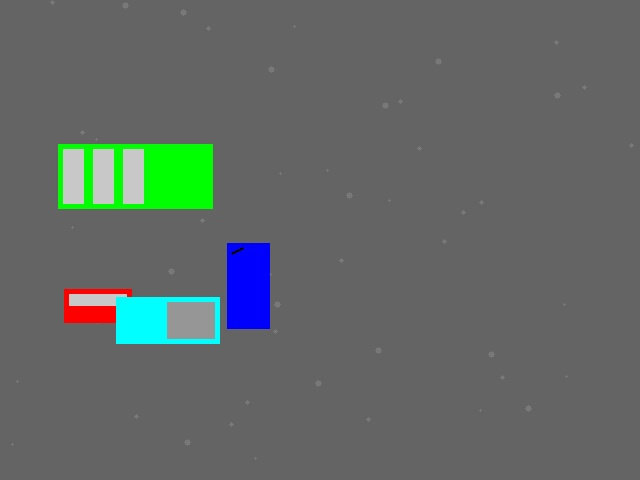bus: (58, 144, 212, 208)
car: (64, 289, 131, 322)
motorcycle: (227, 243, 269, 328)
truck: (116, 297, 219, 343)
